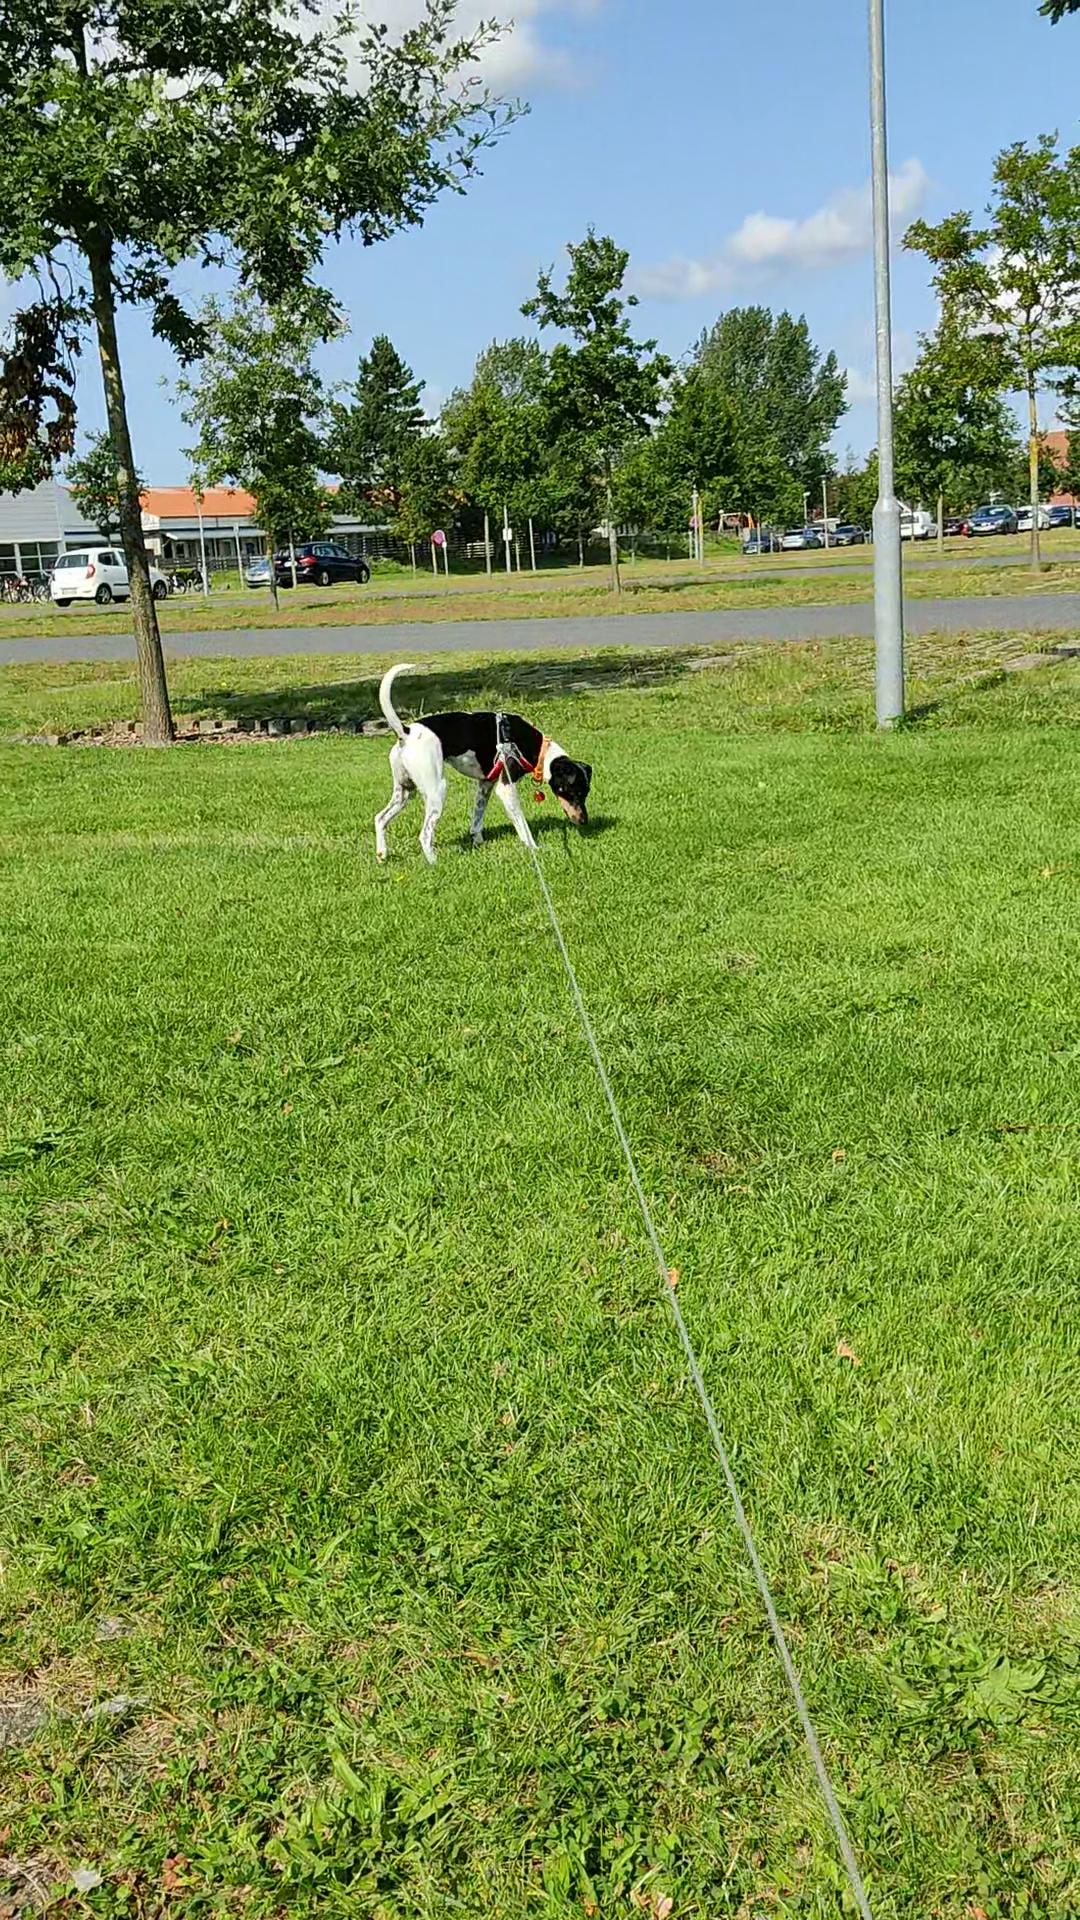Dog: (367, 646, 603, 873)
